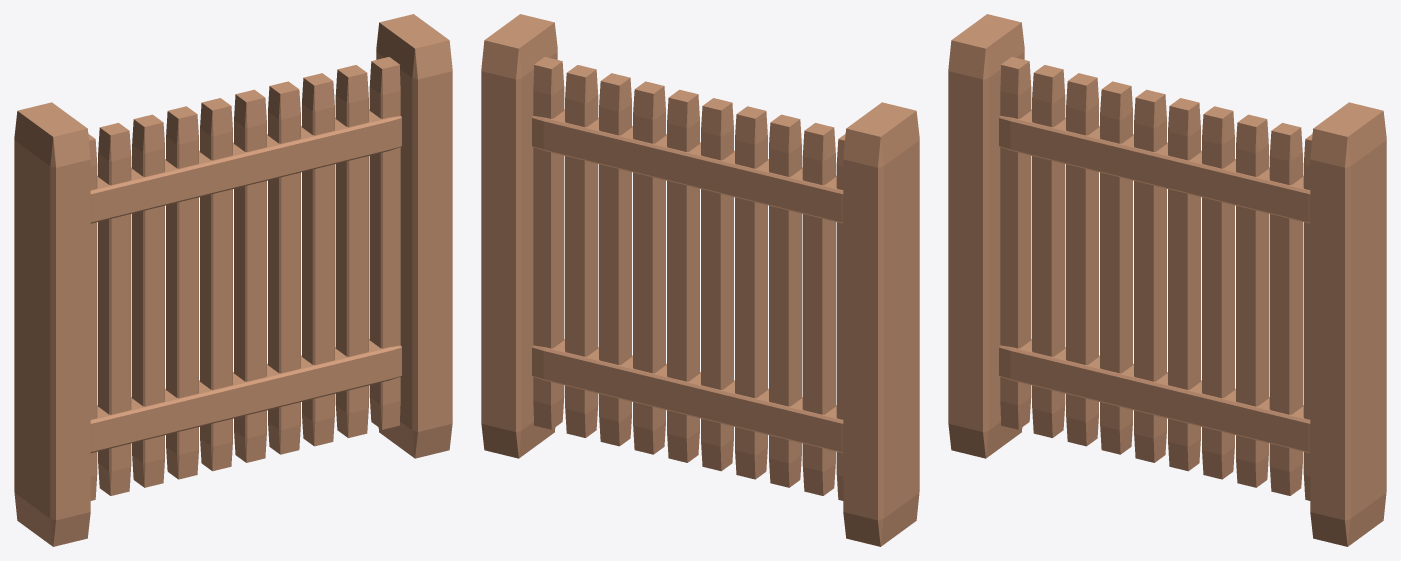
The model's file is b19_chainlink_walk_gate.glb.
3 views of the same model, side by side, from view 1: azimuth 30°, elevation 25°; view 2: azimuth 150°, elevation 25°; view 3: azimuth 330°, elevation 25° (orthographic).
Parts seen in each view (by area): view 1: b19_chainlink_walk_gate; view 2: b19_chainlink_walk_gate; view 3: b19_chainlink_walk_gate.
Boxes of the visible parts, bbox=[...] form: b19_chainlink_walk_gate: bbox=[14, 14, 452, 546]; b19_chainlink_walk_gate: bbox=[481, 14, 919, 546]; b19_chainlink_walk_gate: bbox=[948, 14, 1386, 546].
Size of the model in its own units: 1.64 by 1.6 by 0.295.
